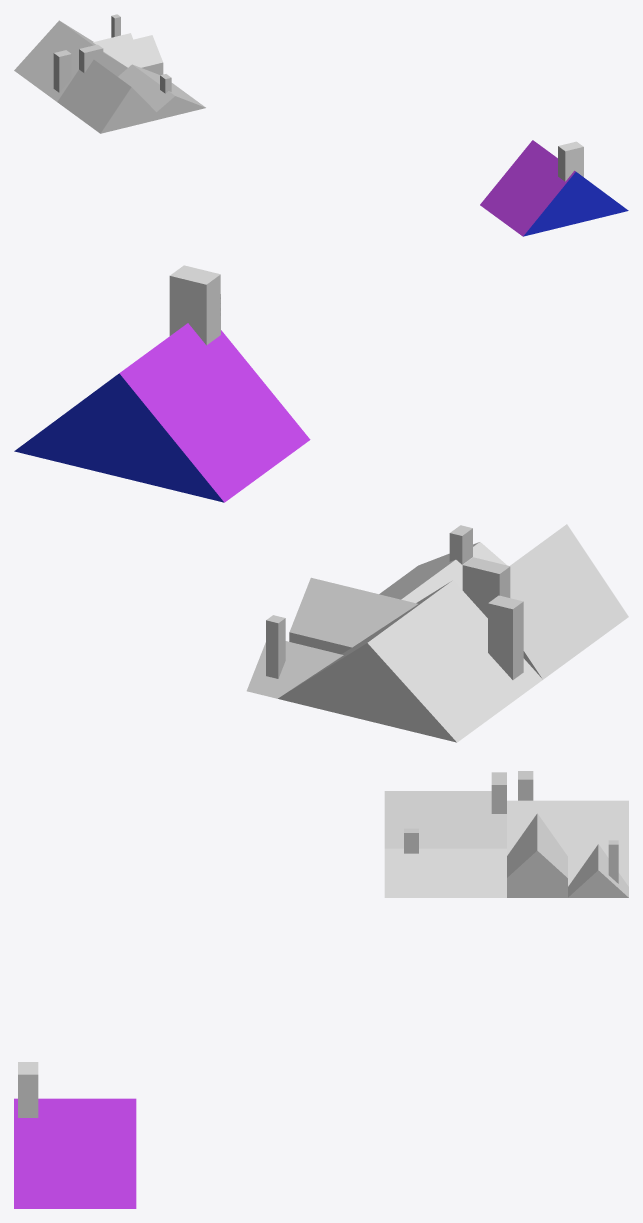
The model's file is Beg Final Room Roof.fbx.
3 renders of one model, top to bottom at view 1: azimuth 30°, elevation 25°; view 2: azimuth 150°, elevation 25°; view 3: azimuth 270°, elevation 25°, orthographic. The views are drawn at different scales.
Visible parts, largest first — view 1: Cube, object_2207.001, object_2208.001, Cube.001; view 2: object_2208.001, Cube, object_2207.001, Cube.001; view 3: object_2207.001, Cube, object_2208.001, Cube.001.
Part boxes in pixels (x1,y1,x2,y2): Cube: (480, 140, 628, 236); object_2207.001: (57, 44, 205, 133); object_2208.001: (14, 14, 163, 101); Cube.001: (558, 141, 583, 181); object_2208.001: (246, 577, 542, 742); Cube: (14, 323, 310, 502); object_2207.001: (379, 524, 628, 679); Cube.001: (169, 265, 220, 345); object_2207.001: (384, 772, 506, 897); Cube: (14, 1098, 136, 1208); object_2208.001: (507, 771, 628, 897); Cube.001: (18, 1062, 38, 1117).
Bounding box in the file's own units: 6370 × 1927 × 6041.
